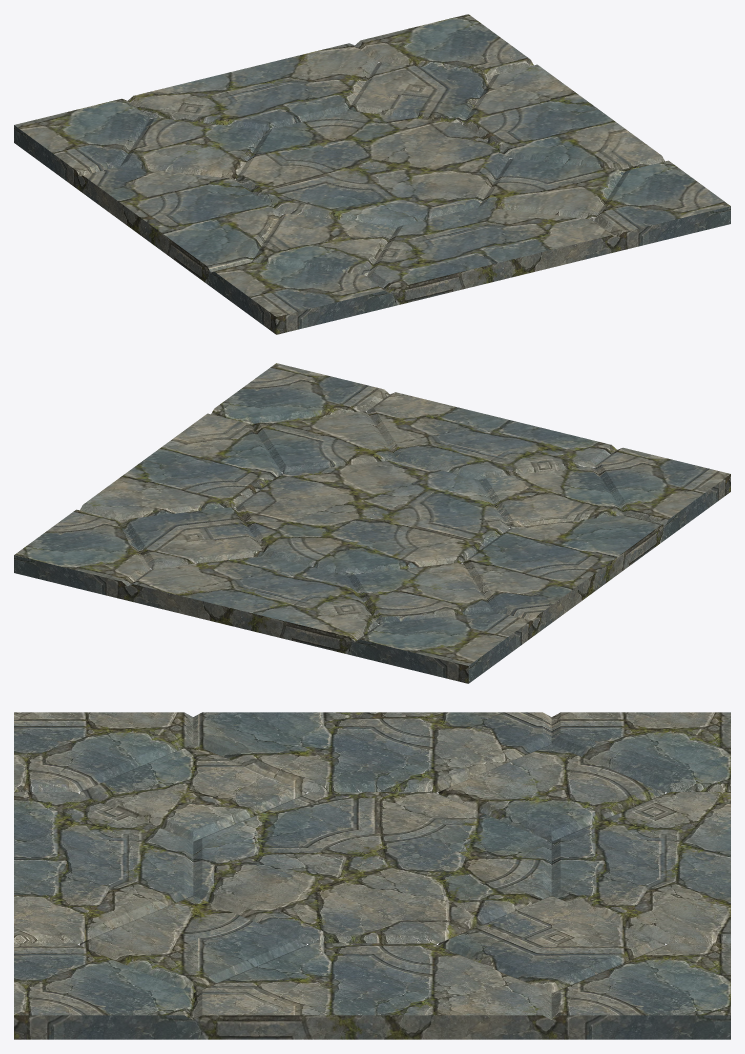
Rendered from floor_tile_large_finished.glb.
3 views of the same model, one above another, from view 1: azimuth 30°, elevation 25°; view 2: azimuth 150°, elevation 25°; view 3: azimuth 270°, elevation 25° (orthographic). The views are drawn at different scales.
Visible parts, largest first — view 1: floor_tile_large.001; view 2: floor_tile_large.001; view 3: floor_tile_large.001.
Boxes of the visible parts, left/top/right/bottom form: floor_tile_large.001: left=14, top=14, right=730, bottom=334; floor_tile_large.001: left=14, top=363, right=730, bottom=683; floor_tile_large.001: left=14, top=712, right=730, bottom=1039.
Size of the model in its own units: 4 by 0.15 by 4.
Materials: 1 (1 with a texture image).
